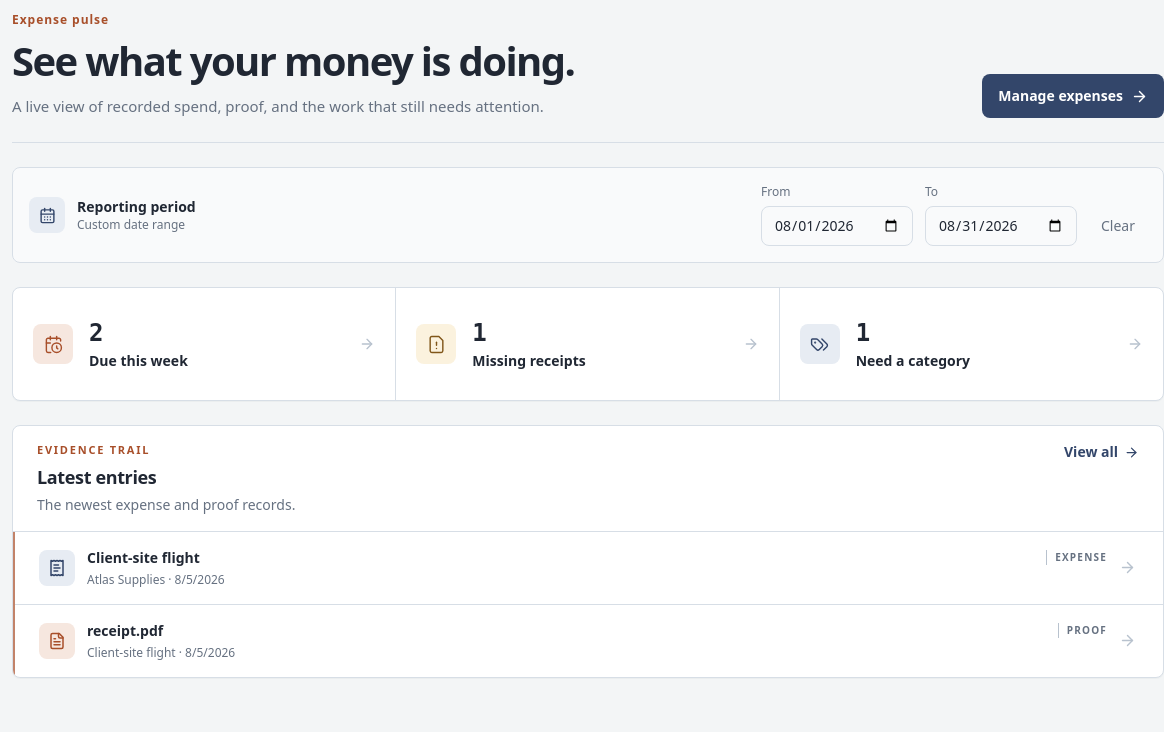
Test case: dashboard workflows › clears the active date range
Click the button "Clear". click: (1118, 226)
box: [1089, 206, 1147, 246]
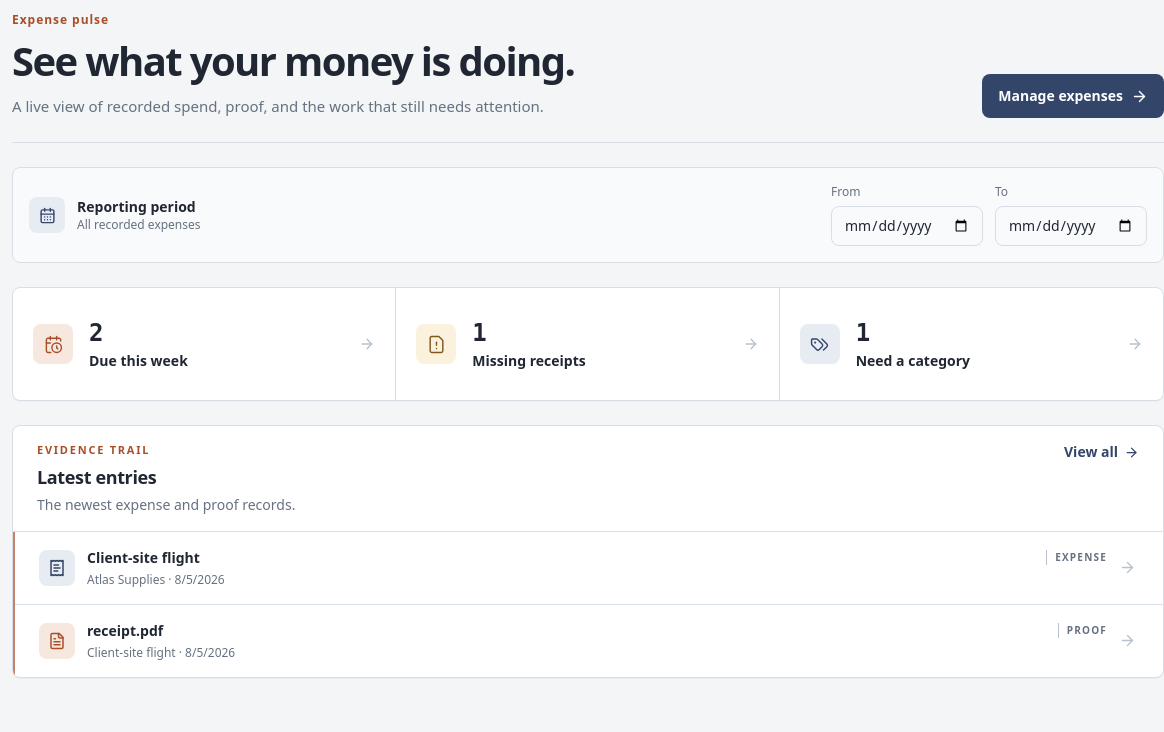
Expected: the date field with id "dashboard-date-from" is empty, [831, 206, 983, 246]
Expected: the date field with id "dashboard-date-to" is empty, [995, 206, 1147, 246]
